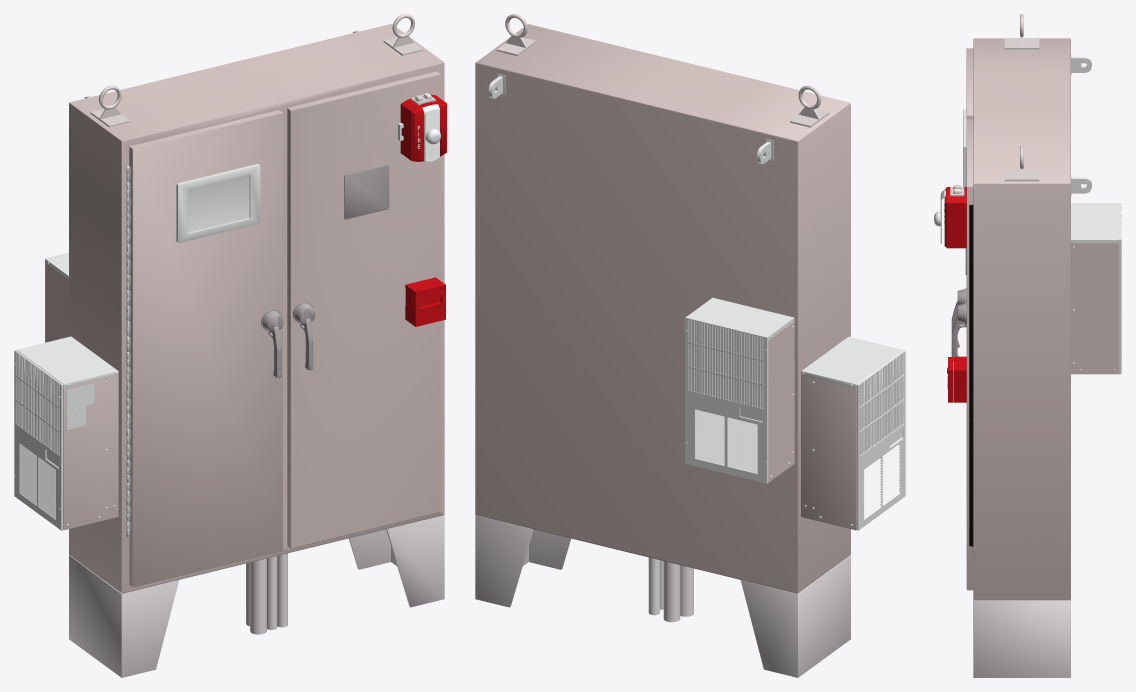
The model's file is fire_control_panel.glb.
3 renders of one model, left to right at view 1: azimuth 30°, elevation 25°; view 2: azimuth 150°, elevation 25°; view 3: azimuth 270°, elevation 25°, orthographic. The views are drawn at different scales.
Visible parts, largest first — view 1: ECIEPCS (×2); view 2: ECIEPCS (×2); view 3: ECIEPCS (×2).
Boxes of the visible parts, x1,y1,x2,y2 form: ECIEPCS (×2): [14, 14, 446, 677]; ECIEPCS (×2): [475, 14, 905, 677]; ECIEPCS (×2): [934, 14, 1121, 677].
Size of the model in its own units: 1.05 by 1.5 by 0.4864.
2 materials, 2 textured.
